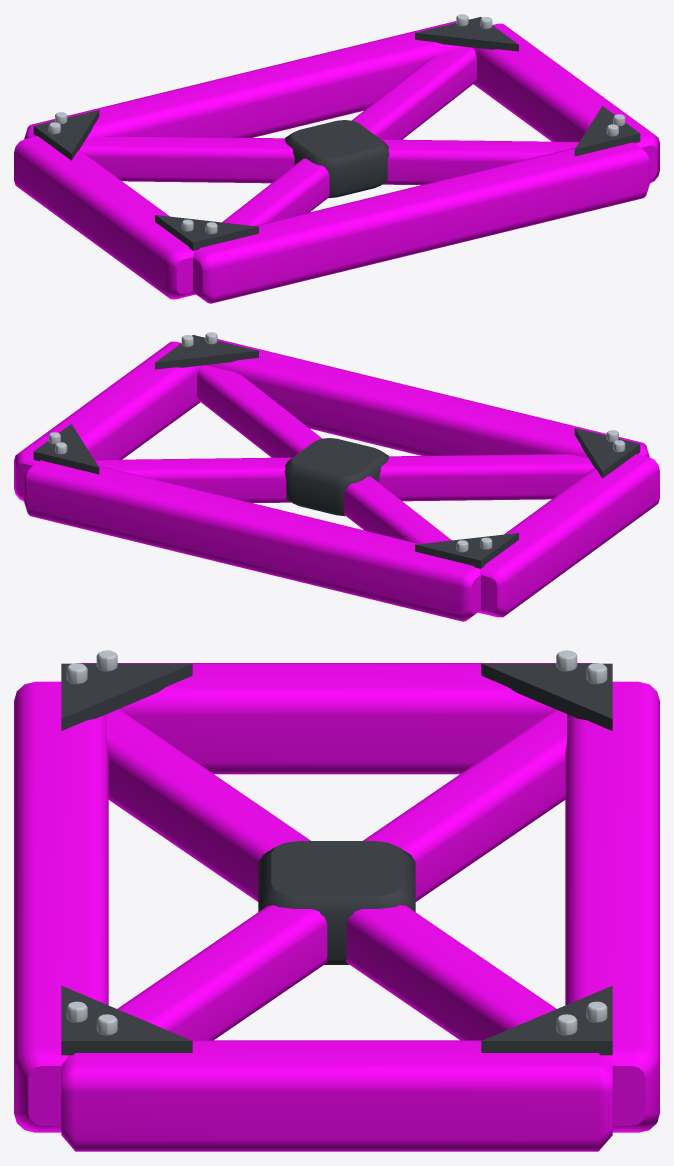
File: objet_chassis_renforce.glb
The picture shows the model from 3 angles, top to bottom: view 1: azimuth 30°, elevation 25°; view 2: azimuth 150°, elevation 25°; view 3: azimuth 270°, elevation 25°; orthographic projection. The views are drawn at different scales.
Parts seen in each view (by area): view 1: chassis_teinte.008, chassis_teinte_sombre.004, chassis_boulon.004; view 2: chassis_teinte.008, chassis_teinte_sombre.004, chassis_boulon.004; view 3: chassis_teinte.008, chassis_teinte_sombre.004, chassis_boulon.004.
Boxes of the visible parts, x1,y1,x2,y2 form: chassis_teinte.008: (14, 21, 659, 303); chassis_teinte_sombre.004: (33, 17, 640, 250); chassis_boulon.004: (48, 14, 625, 234); chassis_teinte.008: (14, 339, 659, 621); chassis_teinte_sombre.004: (33, 335, 640, 568); chassis_boulon.004: (48, 332, 625, 552); chassis_teinte.008: (14, 663, 659, 1151); chassis_teinte_sombre.004: (61, 663, 612, 1055); chassis_boulon.004: (66, 650, 607, 1035).
Bounding box in the file's own units: 0.376 × 0.048 × 0.246.
